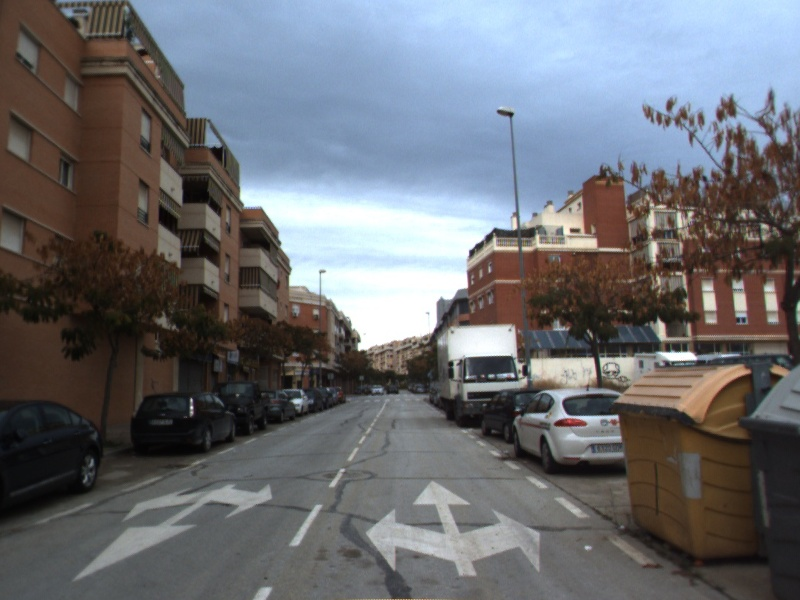STRAIGHT_LEFT_RIGHT: (363, 477, 543, 579)
